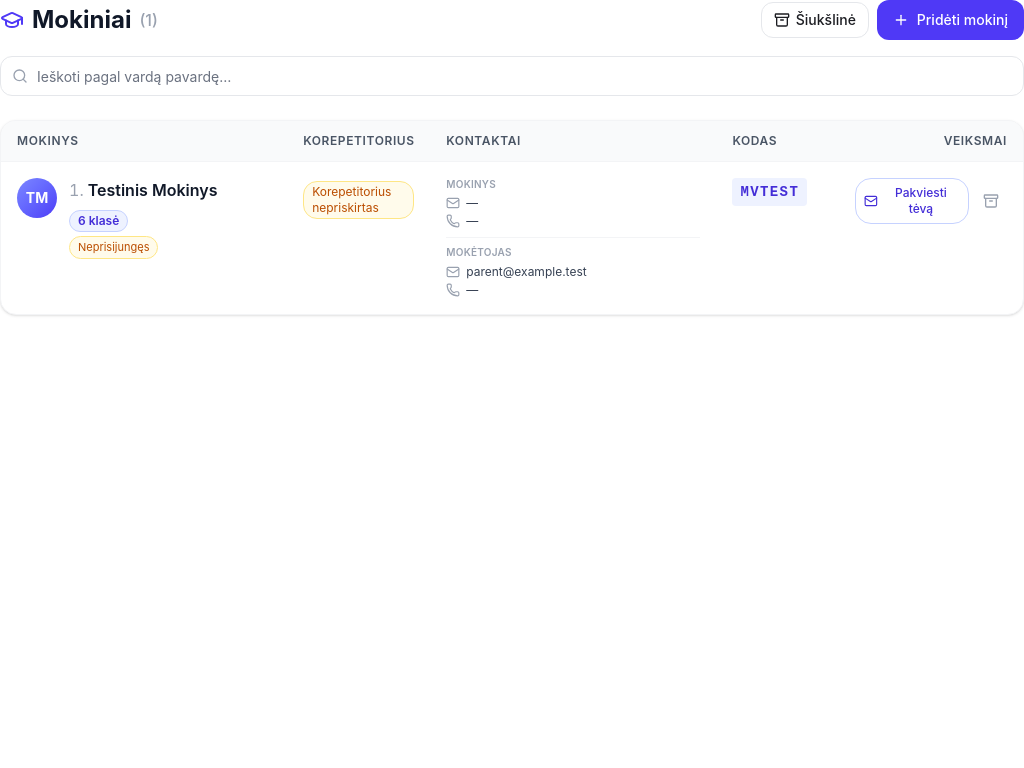
Test: CompanyStudents Mokslo Vaisiai pre-activation scheduling › lets an admin add siblings to the same parent account
What coordinates should you click on to do the following:
click the button "Pridėti mokinį"
I would click on:
 (950, 20)
Its box is 877,0 -> 1023,40.
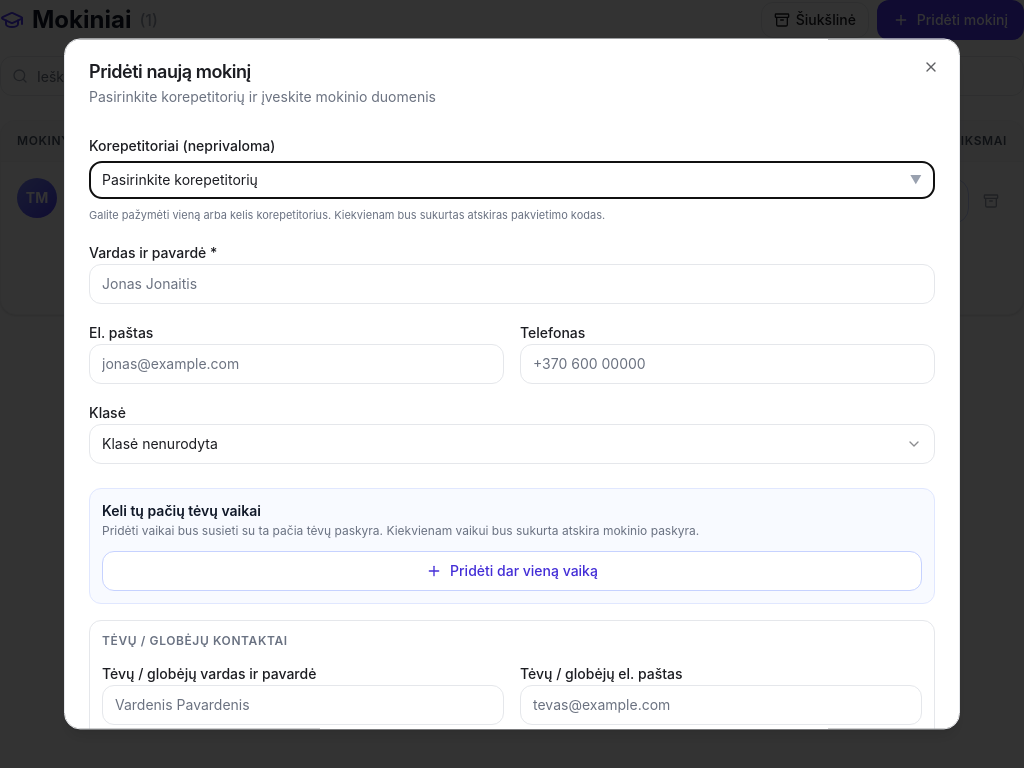
What coordinates should you click on to do the following:
click the button "Pridėti dar vieną vaiką"
I would click on:
 (512, 571)
Its box is 102,551 -> 922,591.
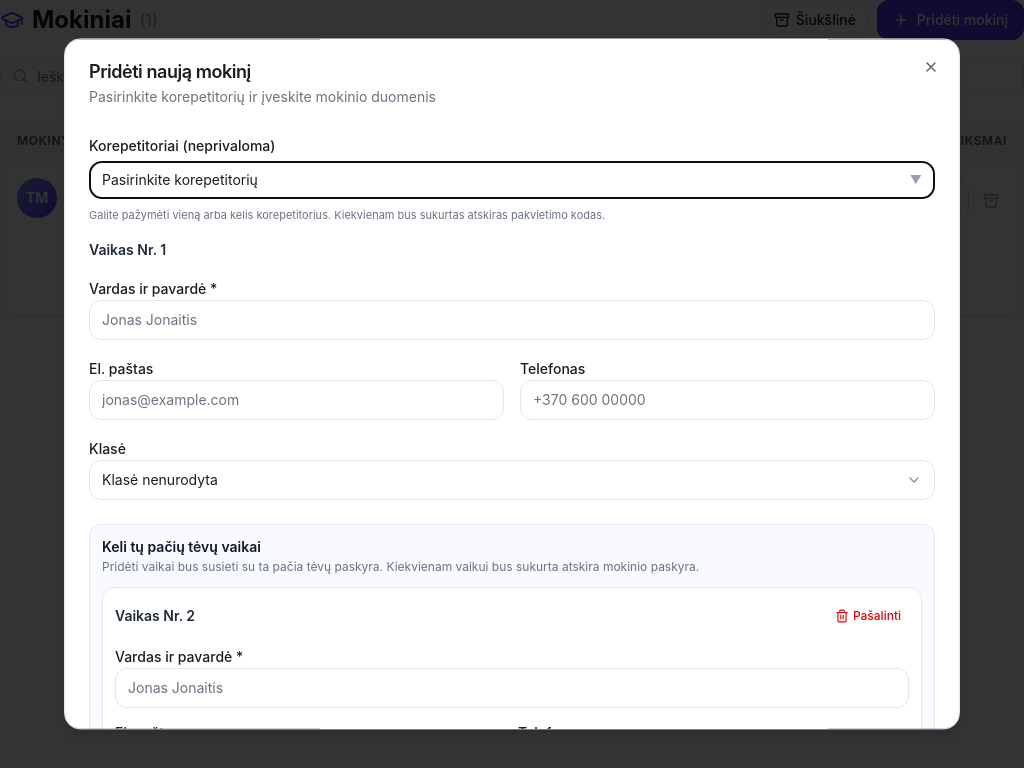
Expected: the text "Vaikas Nr. 1" is shown, 89,241 -> 166,258
Expected: the text "Vaikas Nr. 2" is shown, 115,606 -> 195,626
Expected: the text "Vardas ir pavardė *" is shown 2 times, 89,280 -> 217,297; 115,648 -> 243,665
What coordinates should you click on to do the following:
click the button "Pašalinti"
I would click on:
 (868, 616)
Its box is 827,600 -> 909,632.
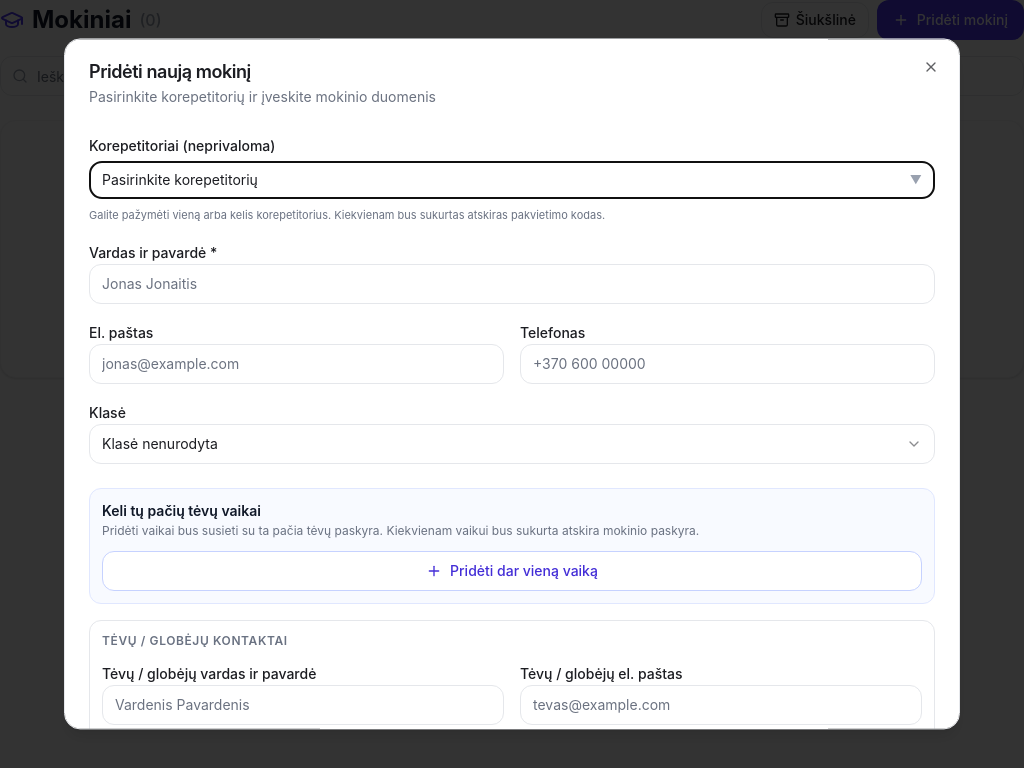
Expected: the text "Vaikas Nr. 2" is gone
